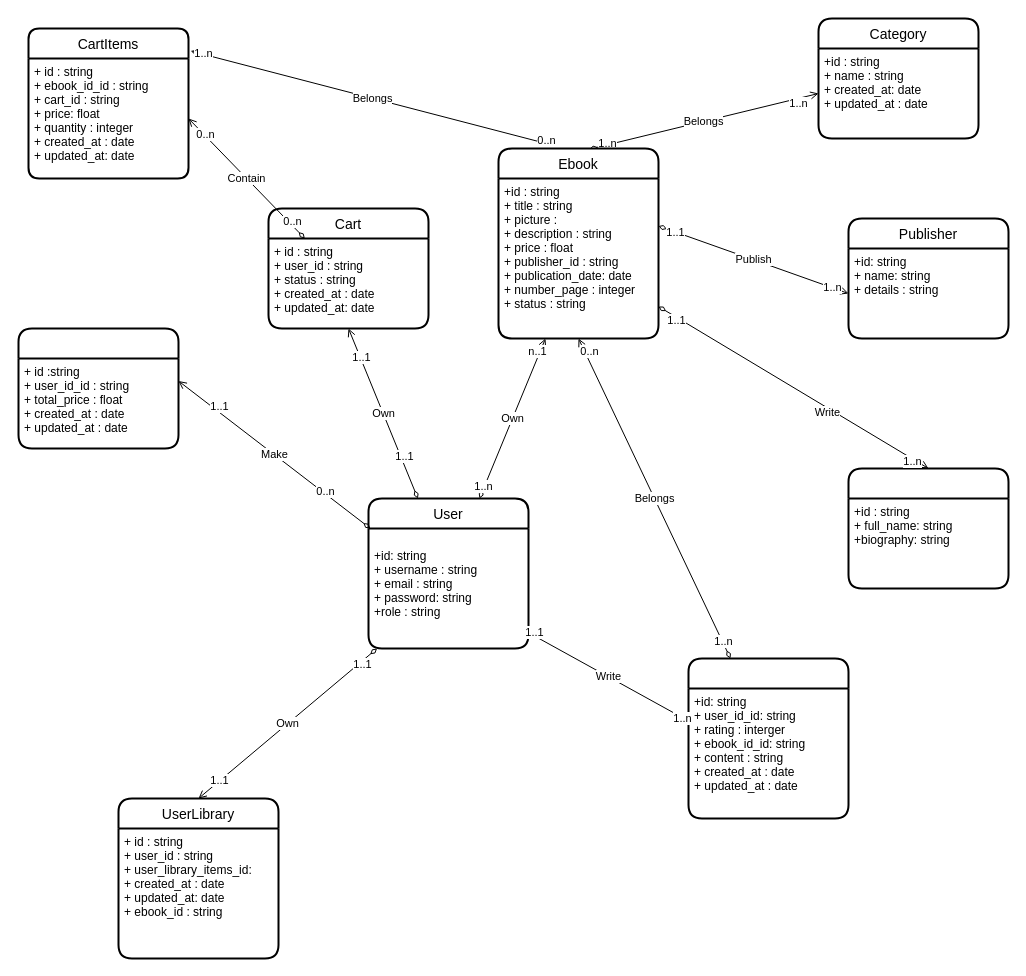
Some shapes in this 1026 by 976 pixel diagram are drawn without their labels. Each missing label, with the box of its shape:
Author: (847, 467, 1009, 589)
Order: (17, 327, 179, 449)
Review: (687, 657, 849, 819)
